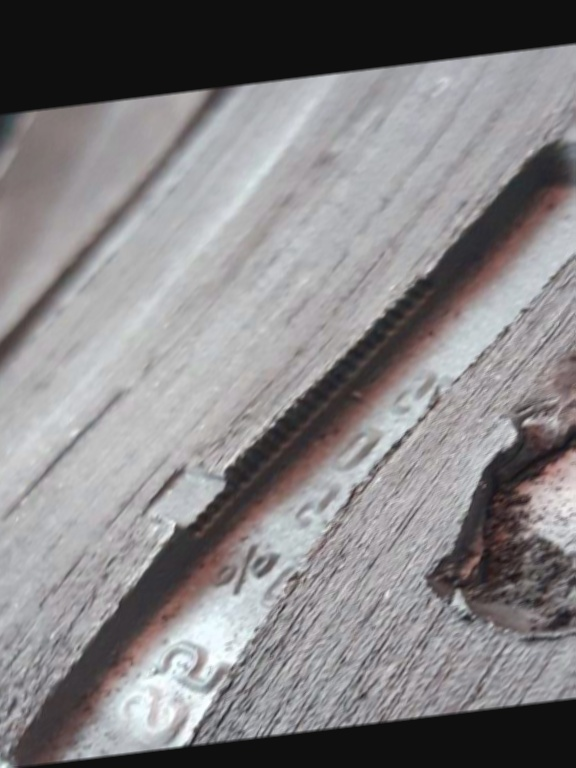temoin:0: (128, 426, 264, 559)
